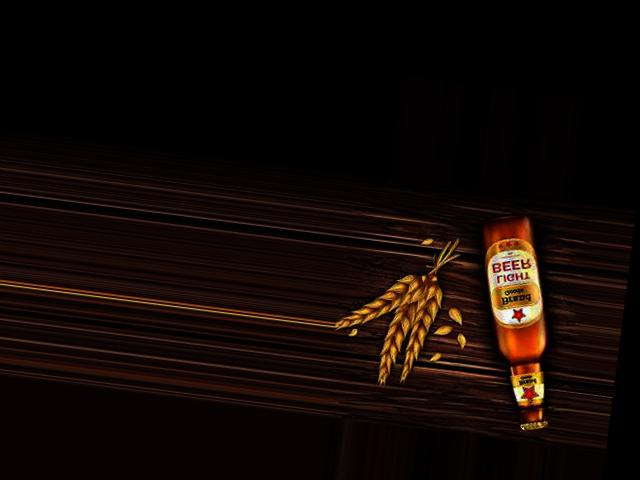beer: (455, 209, 575, 433)
